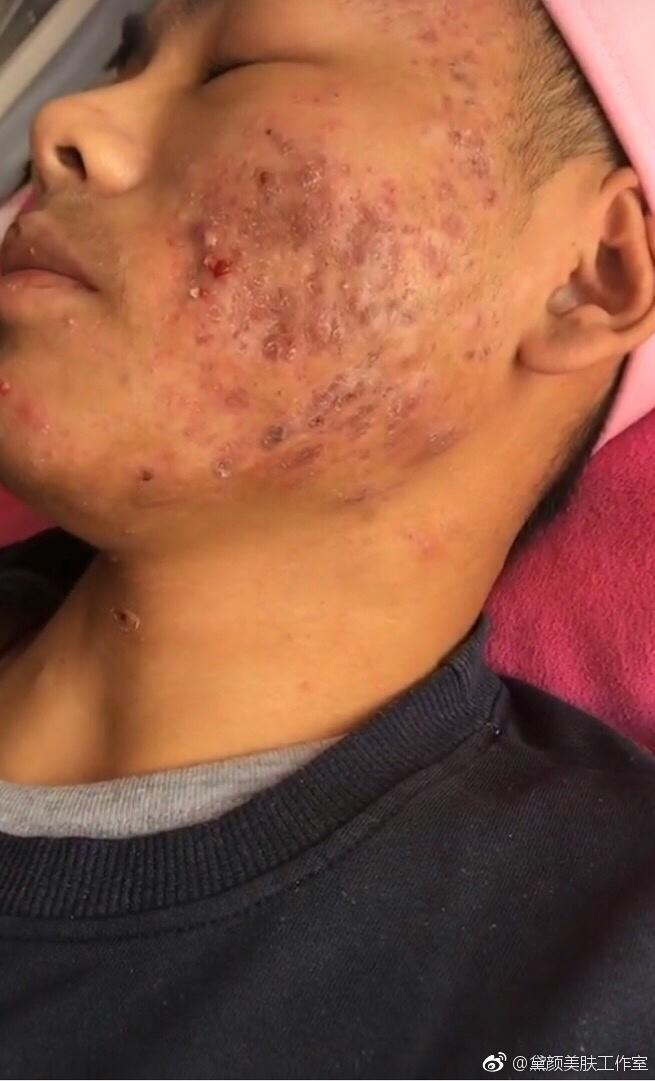fore: (208, 356, 258, 428), (352, 164, 414, 222), (253, 402, 301, 464), (292, 148, 344, 203), (244, 287, 296, 339), (452, 124, 495, 186), (447, 169, 519, 205), (347, 399, 388, 462), (189, 195, 237, 248), (433, 80, 481, 133), (318, 265, 364, 320), (260, 322, 304, 378), (445, 40, 493, 90), (234, 155, 287, 200), (289, 445, 342, 490), (328, 212, 380, 253), (414, 205, 462, 248), (318, 368, 364, 411), (419, 174, 459, 222), (416, 423, 472, 455), (397, 241, 438, 279), (194, 249, 244, 279), (179, 270, 222, 303), (301, 373, 330, 421), (334, 481, 379, 511), (389, 339, 427, 374), (125, 459, 165, 492), (456, 339, 503, 364), (206, 451, 239, 483), (241, 205, 275, 236), (376, 287, 395, 337), (14, 399, 49, 426), (144, 334, 177, 361), (264, 127, 298, 153), (206, 430, 250, 450), (313, 308, 335, 344), (284, 275, 308, 308), (359, 343, 387, 370), (281, 85, 309, 111), (324, 83, 354, 107), (109, 519, 140, 541), (407, 22, 441, 42), (397, 375, 411, 423), (457, 253, 486, 276), (160, 228, 190, 250), (393, 309, 424, 330), (304, 89, 331, 113), (287, 255, 314, 278), (189, 327, 218, 348), (461, 309, 485, 334), (398, 284, 422, 308), (54, 314, 86, 332), (175, 422, 202, 443), (301, 215, 318, 246), (33, 422, 58, 442), (170, 202, 192, 224), (318, 118, 342, 138), (0, 374, 16, 403), (249, 272, 275, 289), (38, 444, 63, 461), (15, 434, 36, 451)
